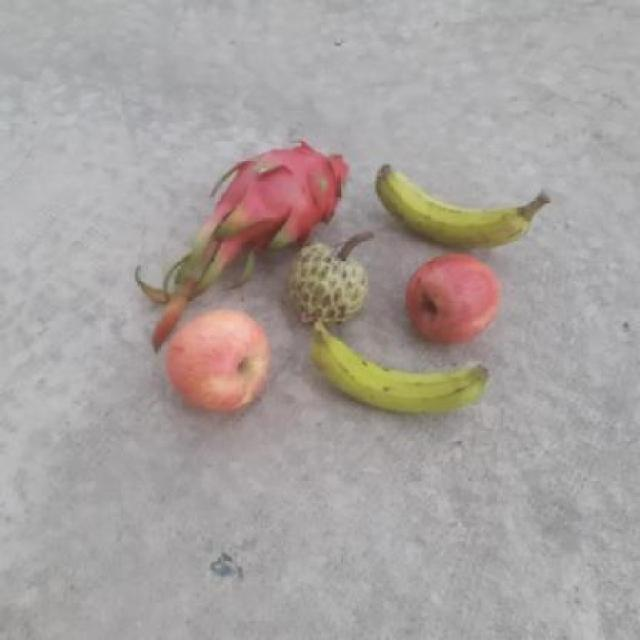apple: (169, 311, 269, 417), (405, 252, 504, 340)
banana: (306, 321, 489, 412), (373, 156, 539, 252), (227, 140, 355, 248)
sugar apple: (287, 242, 365, 326)
